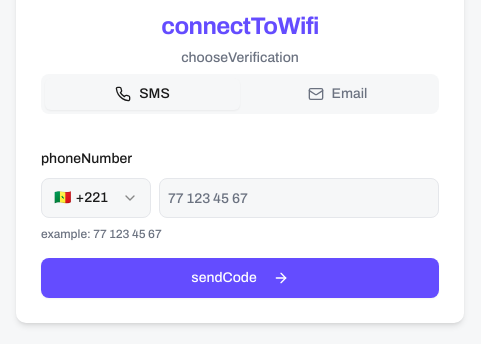
Scenario: RED: appelle send-otp Edge avec { email, siteId } pour le chemin email
Later steps or results of the test are not shown.
Press the mouse on the tab "Email" at (338, 94), box [240,78,435,110]
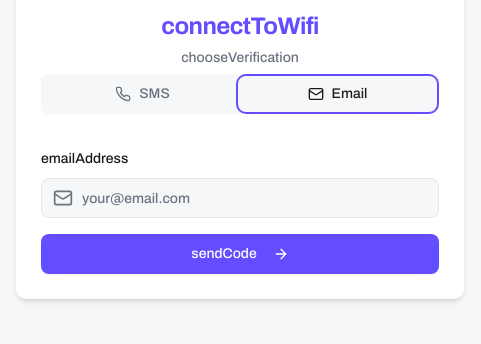
Click the tab "Email" at (338, 94), box [240,78,435,110]
Now the field labelled "emailAddress" is shown, box [41,178,439,218]
